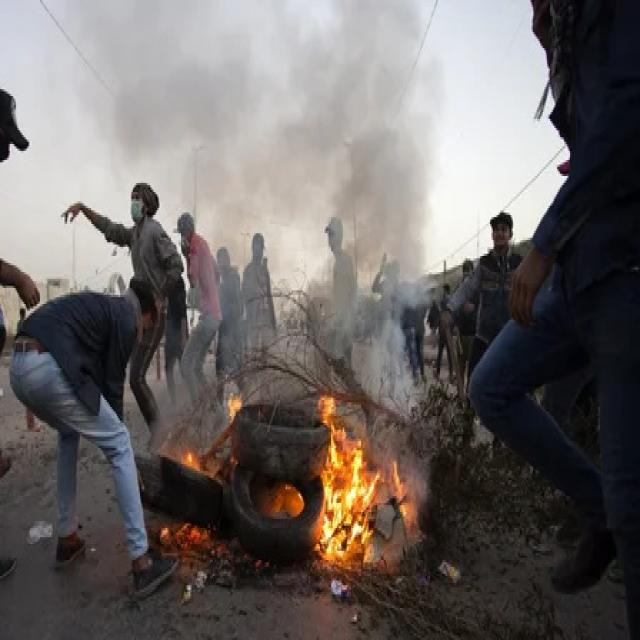fire: (316, 431, 379, 560)
